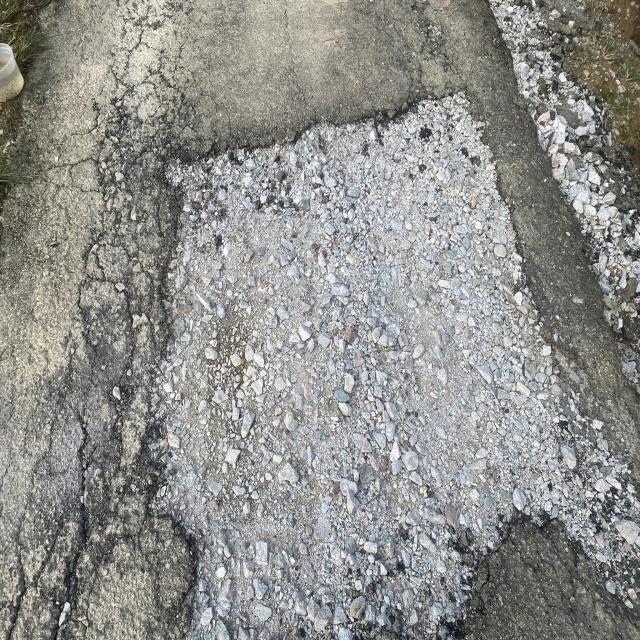Pothole: (143, 46, 415, 569)
